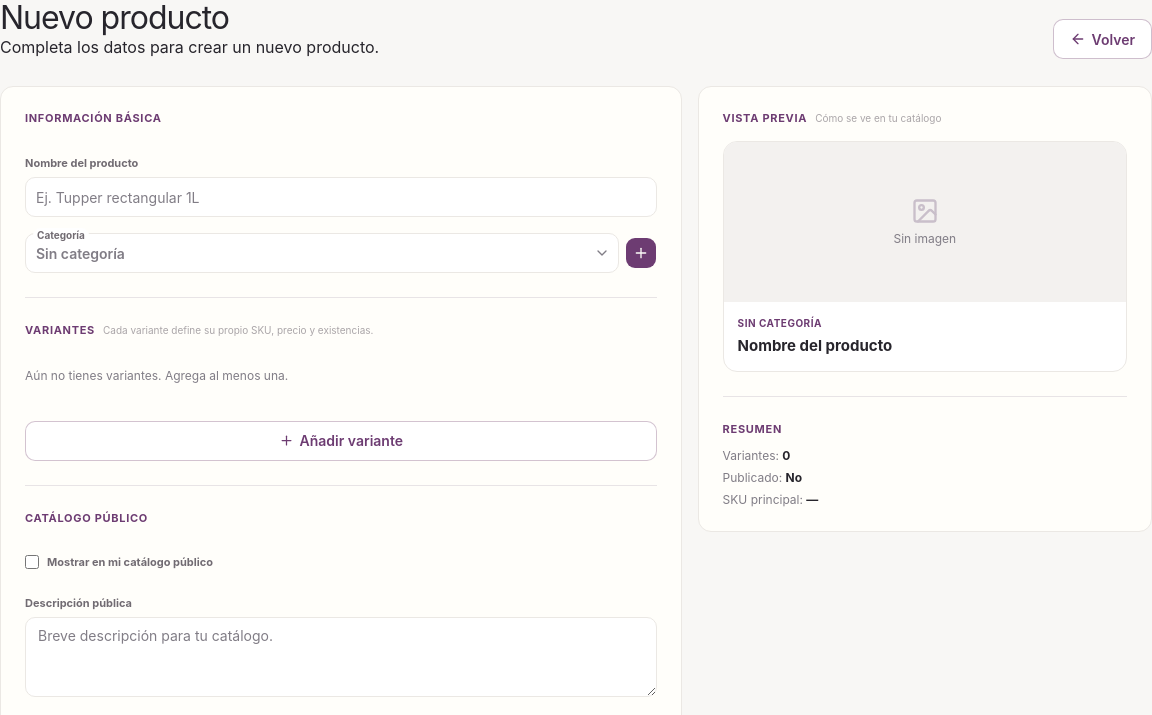
Test: ProductCreatePage › Modal de variante › debería abrir modal de variante al hacer clic en añadir
The image size is (1152, 715).
Click the button "Añadir variante": (341, 441) [25,421,657,461]
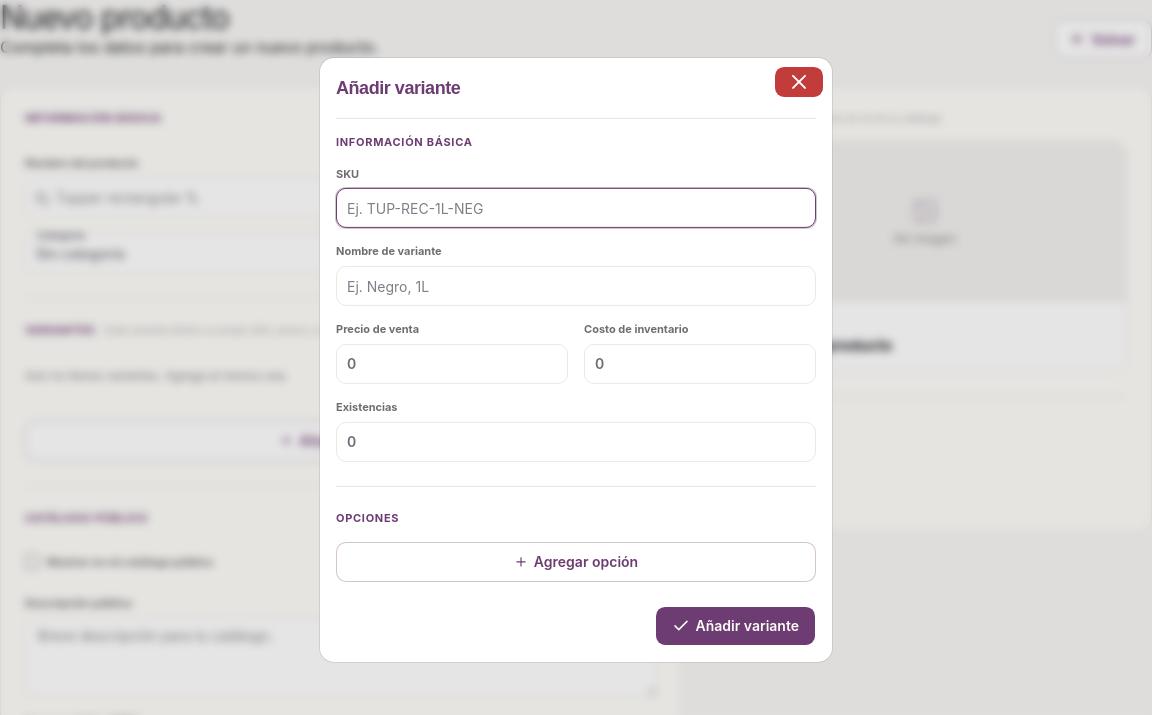
Expected: the dialog "Añadir variante" is shown, [320,58,832,662]
